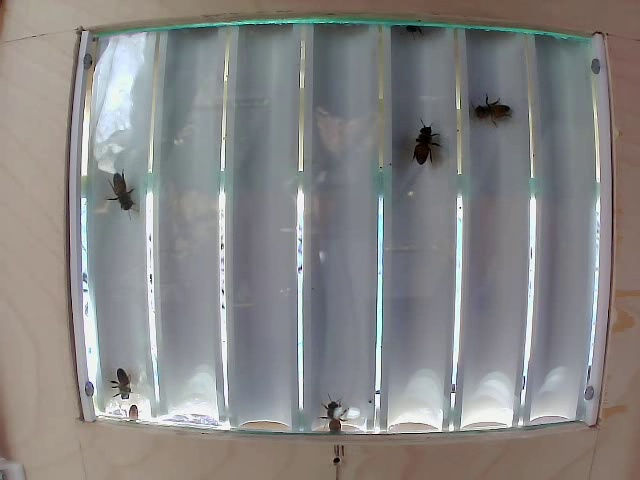bee: (402, 102, 438, 165), (475, 84, 514, 138), (107, 168, 140, 224), (316, 396, 361, 437), (105, 358, 134, 402)
